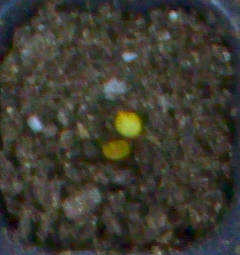chilli seed: (114, 111, 140, 137), (101, 141, 129, 159)
